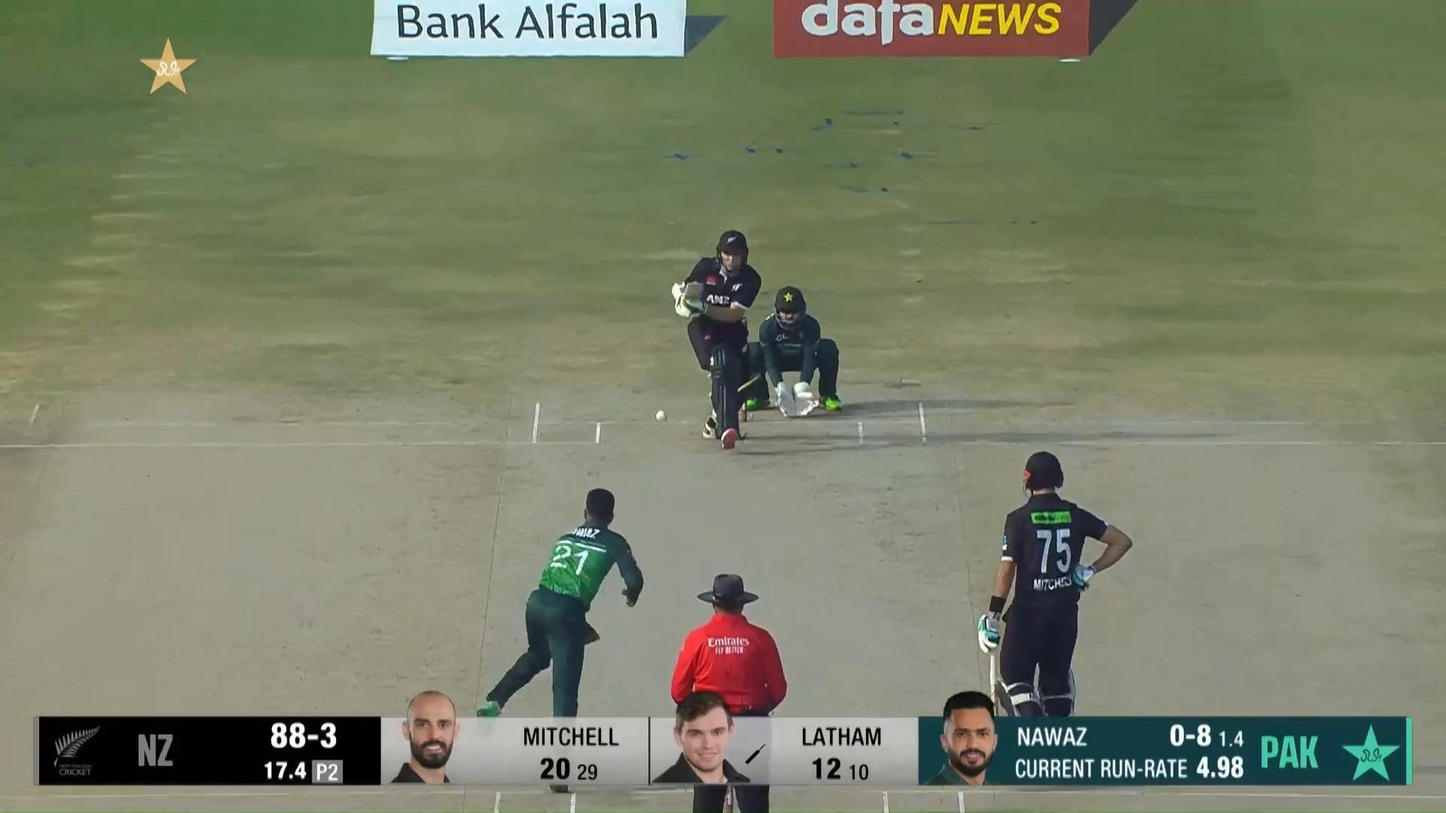BM 1: (671, 230, 762, 450)
BO: (472, 486, 646, 795)
